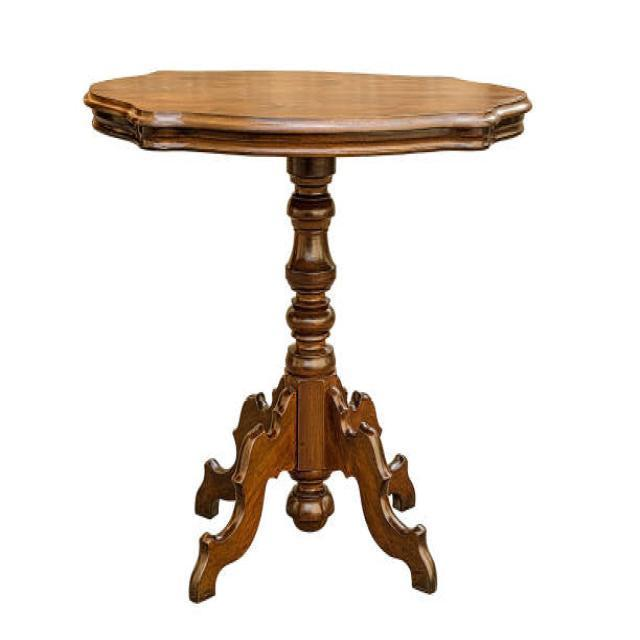table: (82, 68, 532, 602)
